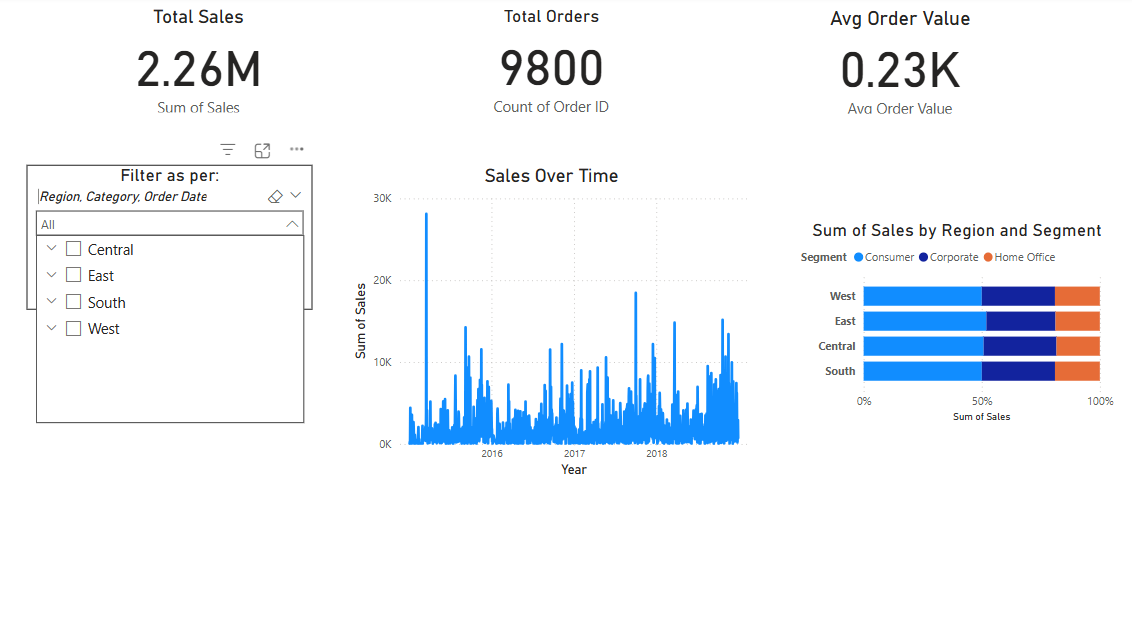

The dashboard page shown, as its layout file describes it:
{"tool":"powerbi","page":{"name":"Page 1","canvas":[1280,720],"ordinal":0},"visuals":[{"type":"card","title":"Total Sales","fields":{"Values":["Sum(superstore.Sales)"]},"box":[126.2,11,251.1,122.1],"z":0},{"type":"card","title":"Total Orders","fields":{"Values":["CountNonNull(superstore.Order ID)"]},"box":[491.3,11,296.4,122.1],"z":1000},{"type":"card","title":"Avg Order Value","fields":{"Values":["superstore.Avg Order Value"]},"box":[894.7,12.3,255.2,122.1],"z":2000},{"type":"lineChart","title":"Sales Over Time","fields":{"Y":["Sum(superstore.Sales)"],"Category":["superstore.Order Date.Variation.Date Hierarchy.Year","superstore.Order Date.Variation.Date Hierarchy.Quarter","superstore.Order Date.Variation.Date Hierarchy.Month","superstore.Order Date.Variation.Date Hierarchy.Day"]},"box":[417.2,185.2,444.6,348.5],"z":3000},{"type":"hundredPercentStackedBarChart","fields":{"Y":["Sum(superstore.Sales)"],"Category":["superstore.Region"],"Series":["superstore.Segment"]},"box":[908.4,245.6,352.7,227.8],"z":4000},{"type":"slicer","title":"Filter as per:","fields":{"Values":["superstore.Region","superstore.Category","superstore.Order Date"]},"box":[63.1,185.2,314.2,159.2],"z":5000}]}

Visuals, with their boxes in screenshot pixels (x1, y1, x2, y2), scaled from the page's 1280x720 canvas onto the 1132x643 screenshot:
"Total Sales" card: [112, 10, 334, 119]
"Total Orders" card: [434, 10, 697, 119]
"Avg Order Value" card: [791, 11, 1017, 120]
"Sales Over Time" lineChart: [369, 165, 762, 477]
hundredPercentStackedBarChart - Sum(superstore.Sales) x superstore.Region: [803, 219, 1115, 423]
"Filter as per:" slicer: [56, 165, 334, 308]
